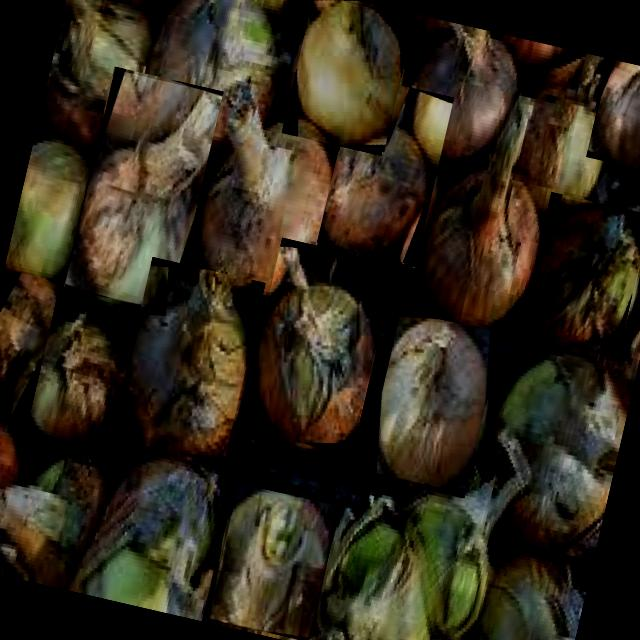healthy: (297, 0, 394, 146)
rotten: (81, 90, 219, 302), (259, 248, 375, 445), (126, 270, 246, 456), (212, 490, 330, 638), (381, 322, 486, 488), (323, 87, 429, 250), (525, 208, 638, 348), (0, 273, 54, 396), (601, 62, 640, 169)
